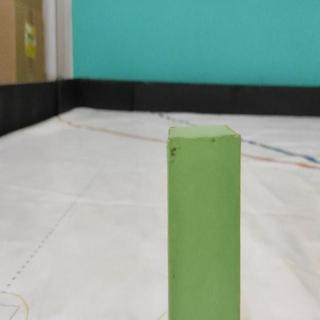greenbox: (166, 126, 241, 320)
